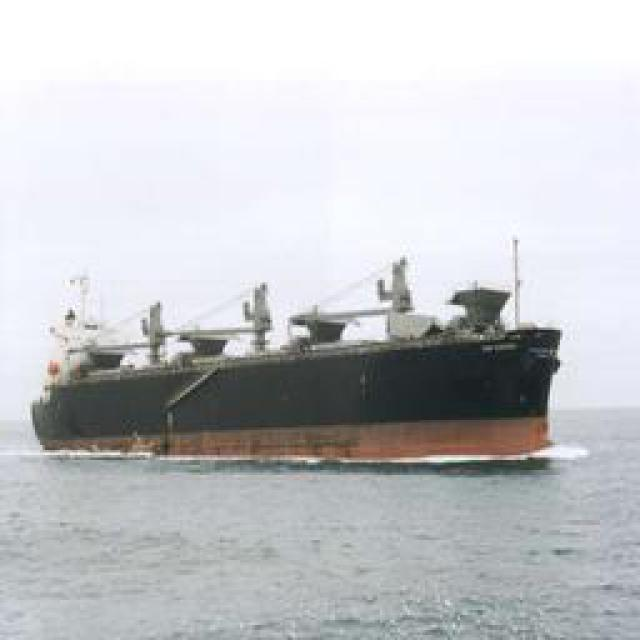Ship: (34, 261, 569, 461)
